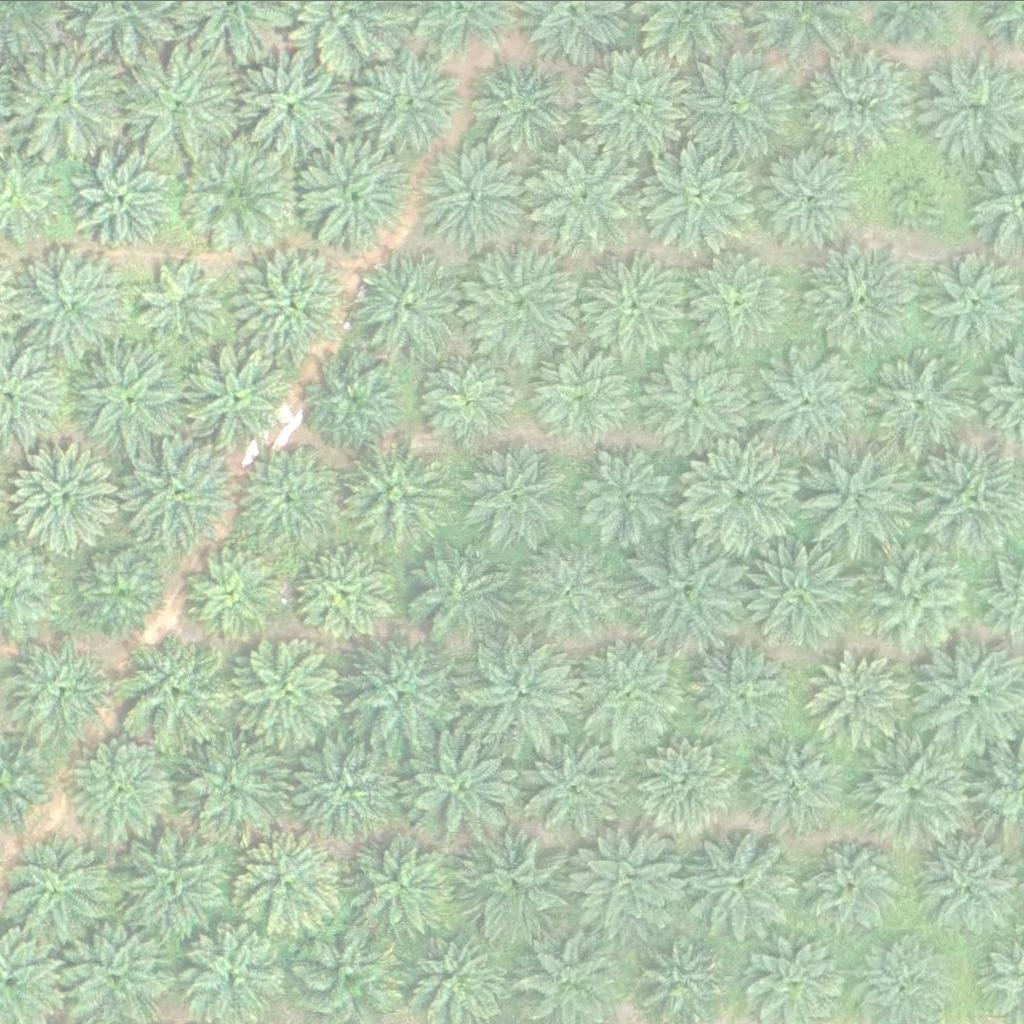Kelapa_Sawit: (66, 728, 180, 841), (119, 630, 233, 743), (230, 633, 344, 746), (801, 44, 915, 157), (642, 138, 756, 251), (402, 532, 516, 645), (858, 543, 972, 656), (179, 732, 292, 845), (12, 436, 125, 549), (71, 340, 184, 453), (176, 339, 289, 452), (236, 245, 349, 358), (295, 135, 408, 248), (11, 44, 124, 157), (582, 40, 695, 153), (677, 46, 790, 159), (417, 139, 530, 252), (533, 135, 646, 248), (352, 248, 465, 361), (466, 243, 579, 356), (685, 436, 798, 549), (797, 439, 910, 552), (515, 535, 628, 648), (634, 530, 747, 643), (746, 537, 859, 650), (346, 635, 459, 748), (468, 633, 581, 746), (570, 828, 683, 941), (686, 828, 799, 941), (798, 830, 911, 943), (337, 439, 451, 551), (580, 243, 694, 355), (461, 440, 575, 552), (118, 824, 231, 936), (233, 823, 346, 935), (286, 726, 399, 838), (125, 439, 238, 551), (235, 441, 348, 553), (18, 249, 131, 361), (181, 137, 294, 249), (123, 43, 236, 155), (229, 45, 342, 157), (353, 41, 466, 153), (806, 241, 919, 353), (643, 342, 756, 454), (753, 338, 866, 450), (574, 633, 687, 745), (687, 635, 800, 747), (405, 728, 518, 840), (516, 731, 629, 843), (349, 828, 462, 940), (464, 825, 577, 937), (857, 738, 970, 850), (862, 344, 975, 456), (68, 534, 169, 634), (303, 350, 404, 450), (136, 250, 237, 350), (69, 150, 170, 250), (470, 48, 571, 148), (806, 644, 907, 744), (638, 736, 739, 836), (744, 731, 845, 831), (8, 632, 108, 732), (183, 536, 283, 636), (295, 540, 395, 640), (759, 143, 859, 243), (690, 250, 790, 350), (422, 349, 522, 449), (536, 344, 636, 444), (580, 441, 680, 541), (884, 160, 947, 222)
